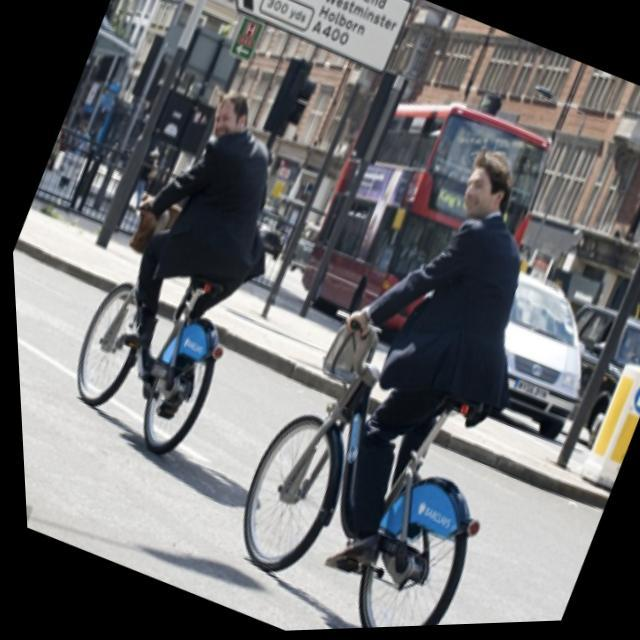Nonhelmet: (455, 142, 515, 228), (204, 86, 250, 147)
